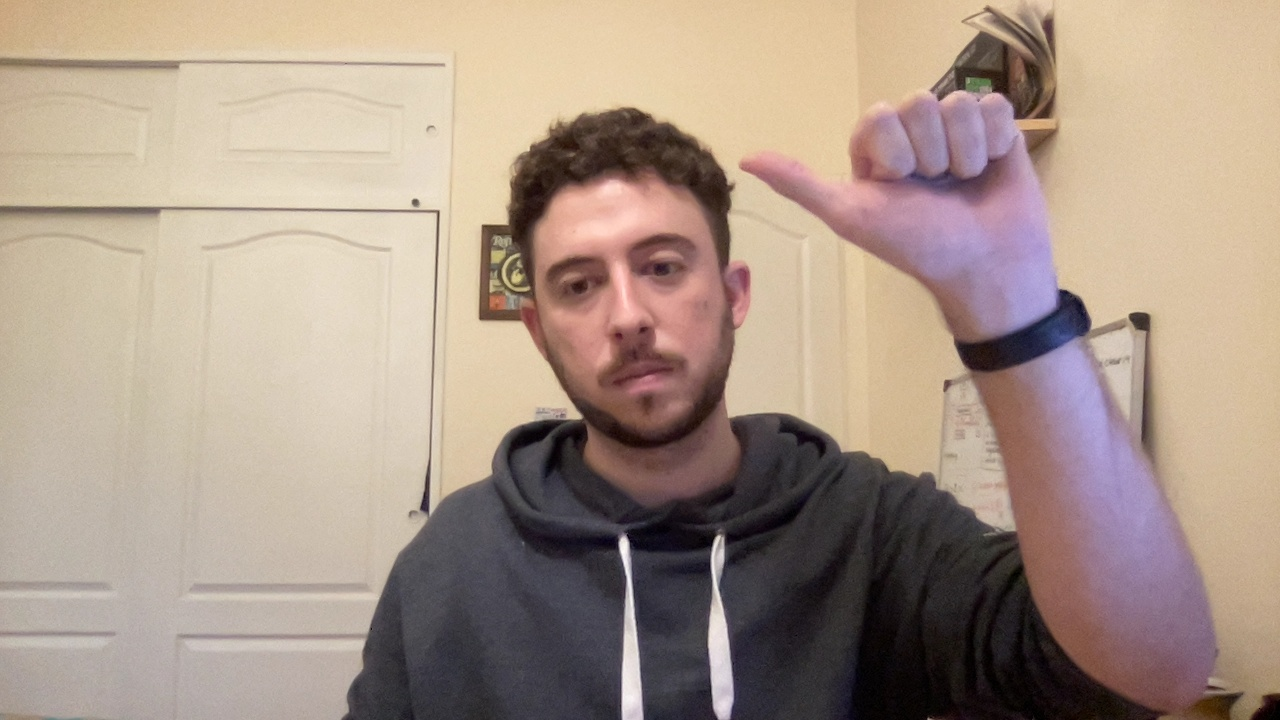pulgar: (716, 68, 1099, 338)
